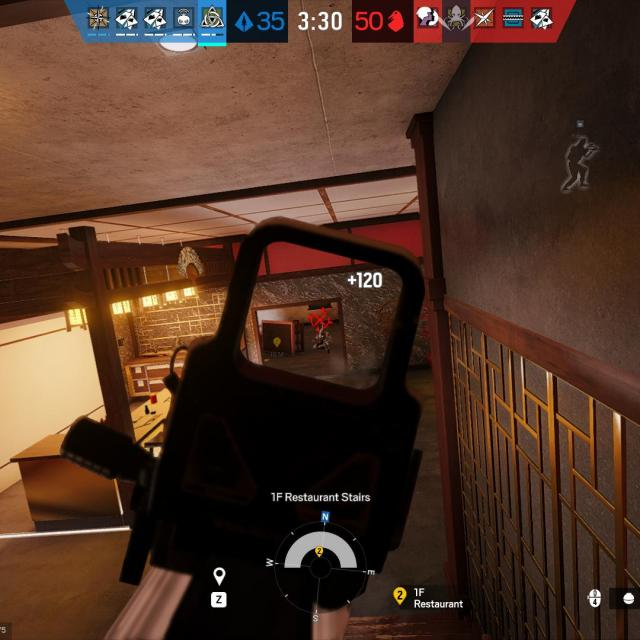Character: (313, 322, 330, 354)
Friend_label: (571, 119, 589, 139)
